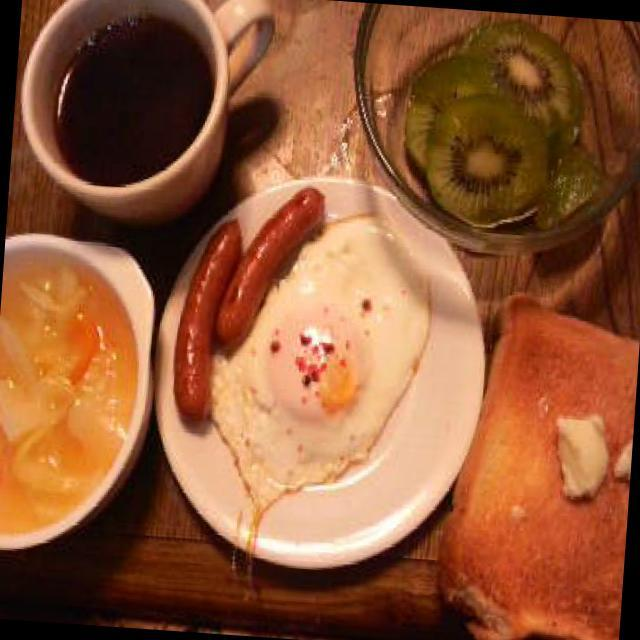Egg: (239, 233, 435, 508)
Kiwi: (394, 15, 606, 228)
Sausage: (168, 172, 324, 435)
